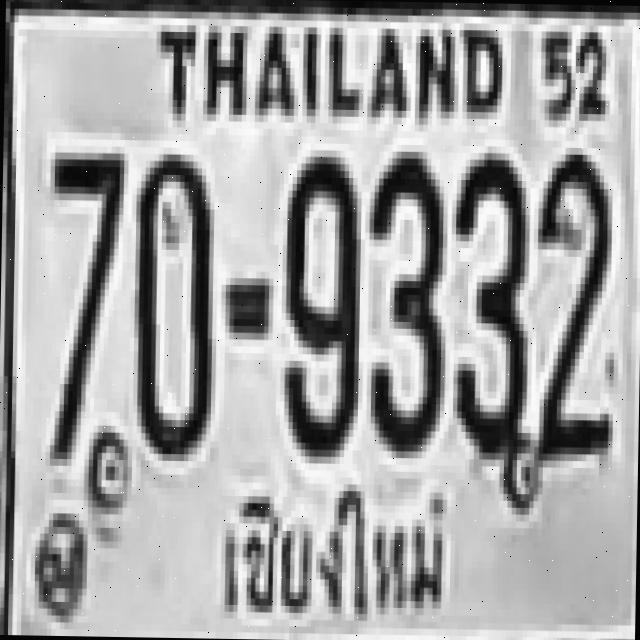0: (130, 146, 213, 454)
2: (532, 146, 611, 454)
3: (448, 145, 526, 453), (366, 147, 444, 448)
7: (46, 145, 120, 453), (46, 145, 120, 405), (46, 146, 120, 358)
9: (279, 149, 358, 450)
ChiangMai: (201, 484, 460, 636)
